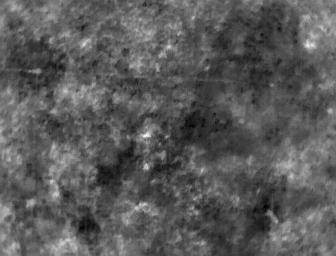landmine: (142, 130, 152, 139)
